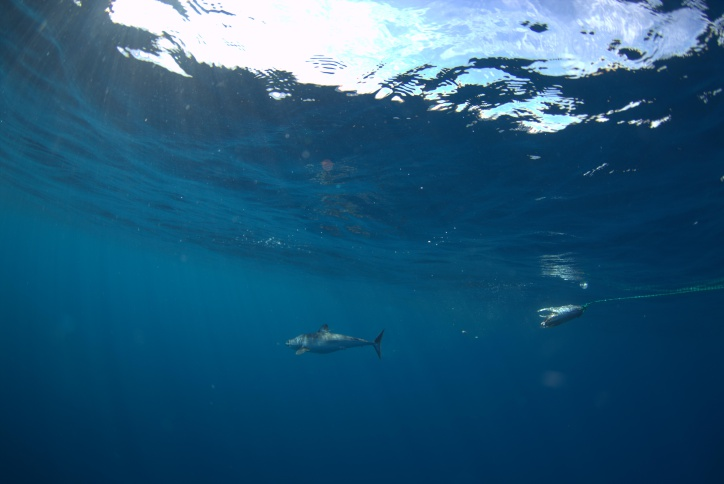Mako: (271, 317, 396, 373)
